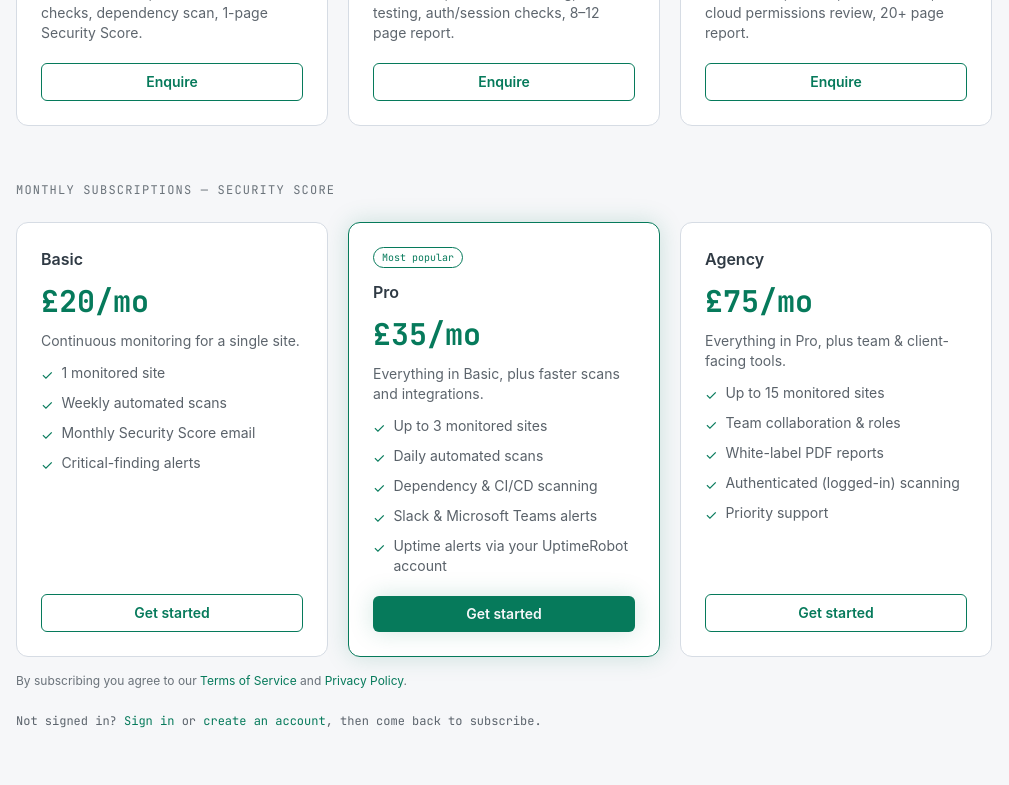
pricing page checkout › shows other errors without the contact link
(page scrolled)
Click the button "Get started" below "Critical-finding alerts".
click(172, 613)  # box [41,594,303,632]
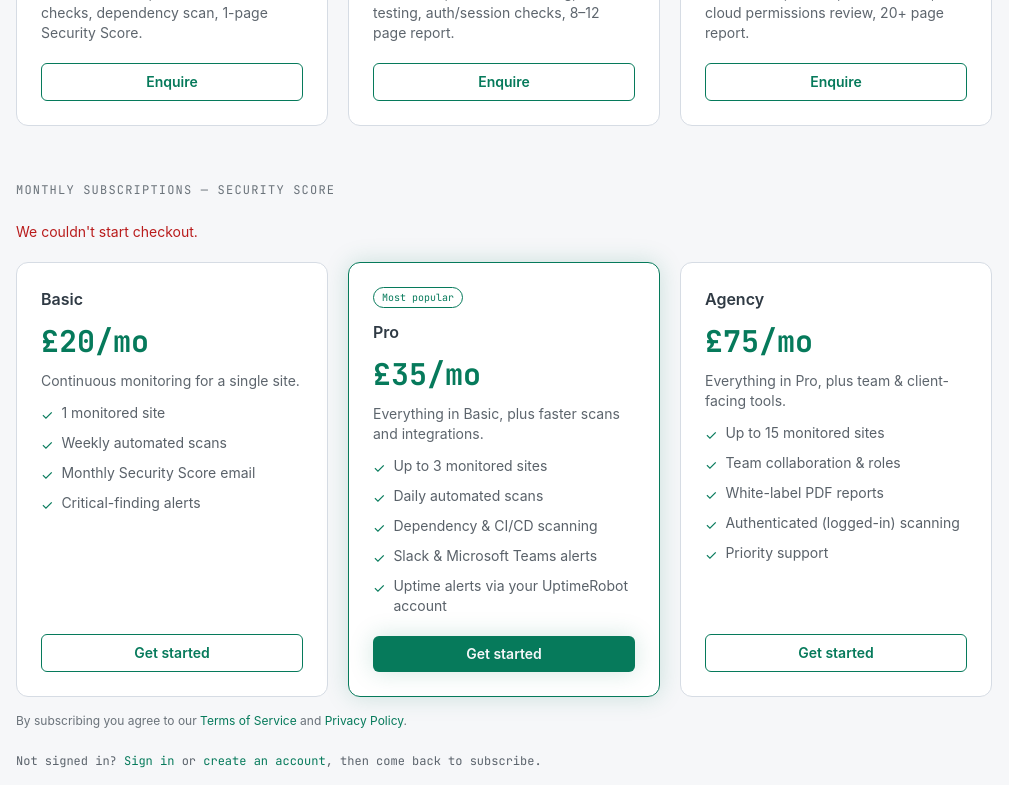
Now the message "We couldn't start checkout." is shown, box [16,223,198,240]
